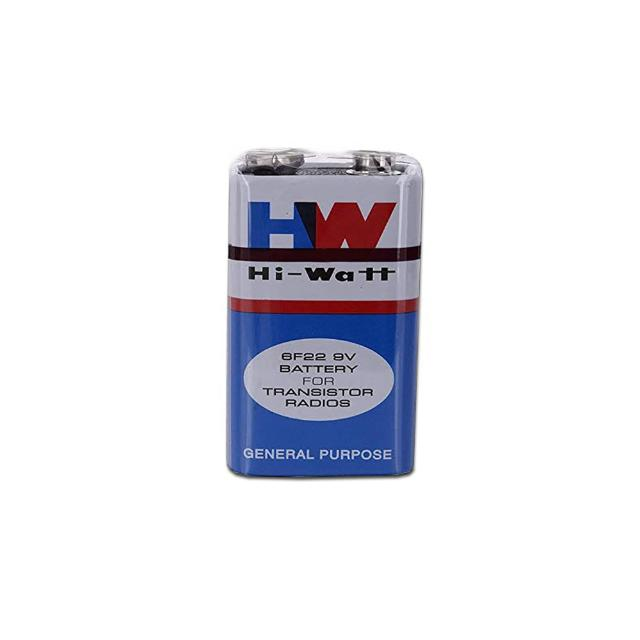Battery: (223, 147, 427, 482)
